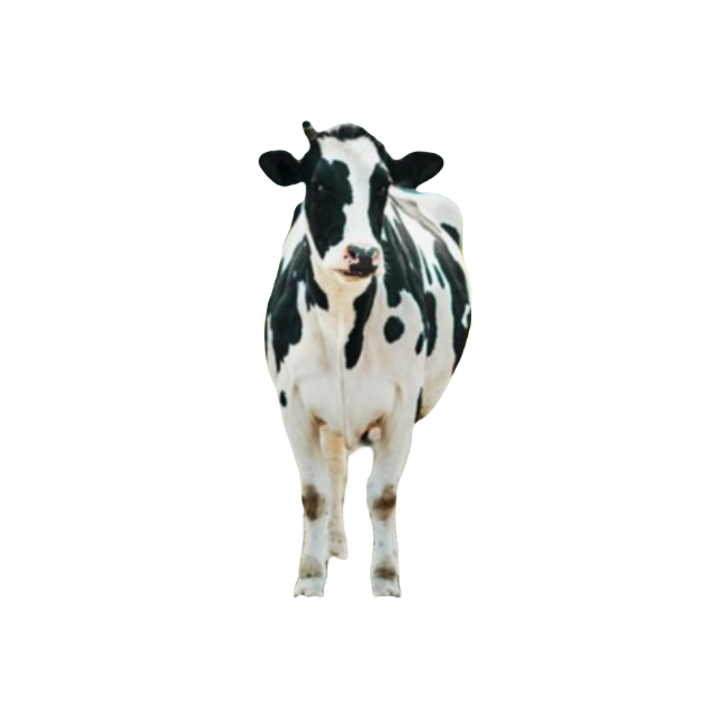Cow: (255, 112, 474, 602)
